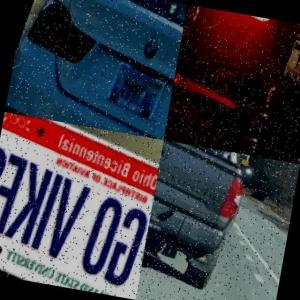Plate: (0, 130, 160, 292), (95, 54, 169, 126), (279, 38, 300, 84)
